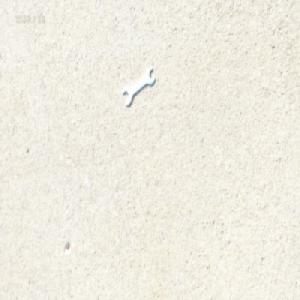Wrench: (122, 67, 155, 106)
